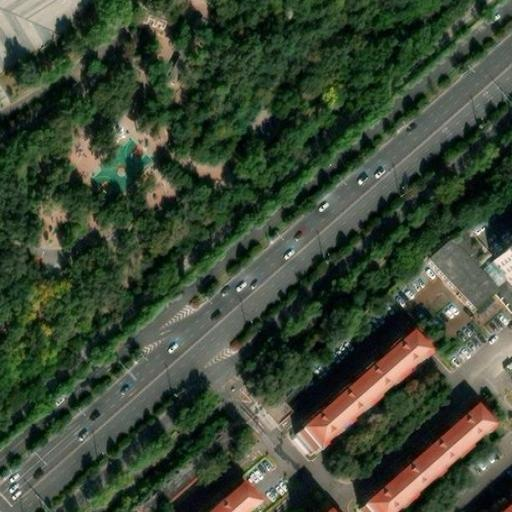building: (298, 335, 430, 456), (363, 408, 494, 512), (430, 231, 512, 311), (209, 488, 255, 512)
